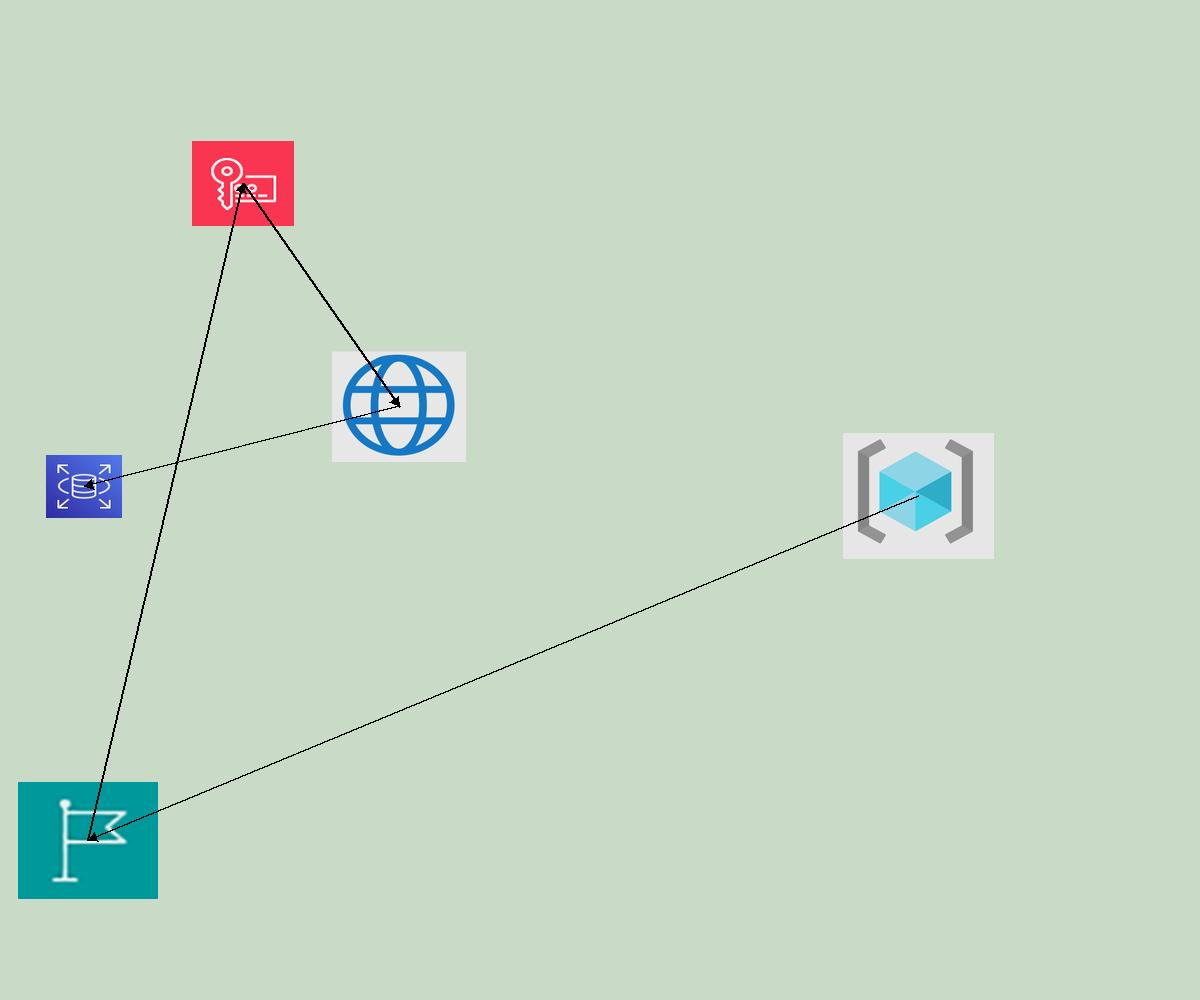AWS-Key-Management-Service: (192, 141, 294, 226)
AWS-RDS: (46, 455, 122, 518)
AWS-Region: (18, 782, 158, 899)
Azure_http: (332, 351, 466, 462)
Azure_resource_group: (843, 433, 994, 559)
